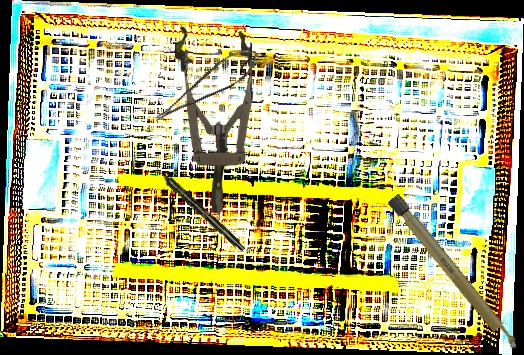Handpiece: (152, 164, 248, 254)
Micro Scissor: (144, 42, 267, 125)
Scalpel Handle: (387, 193, 521, 354)
Speculum: (174, 25, 255, 214)
